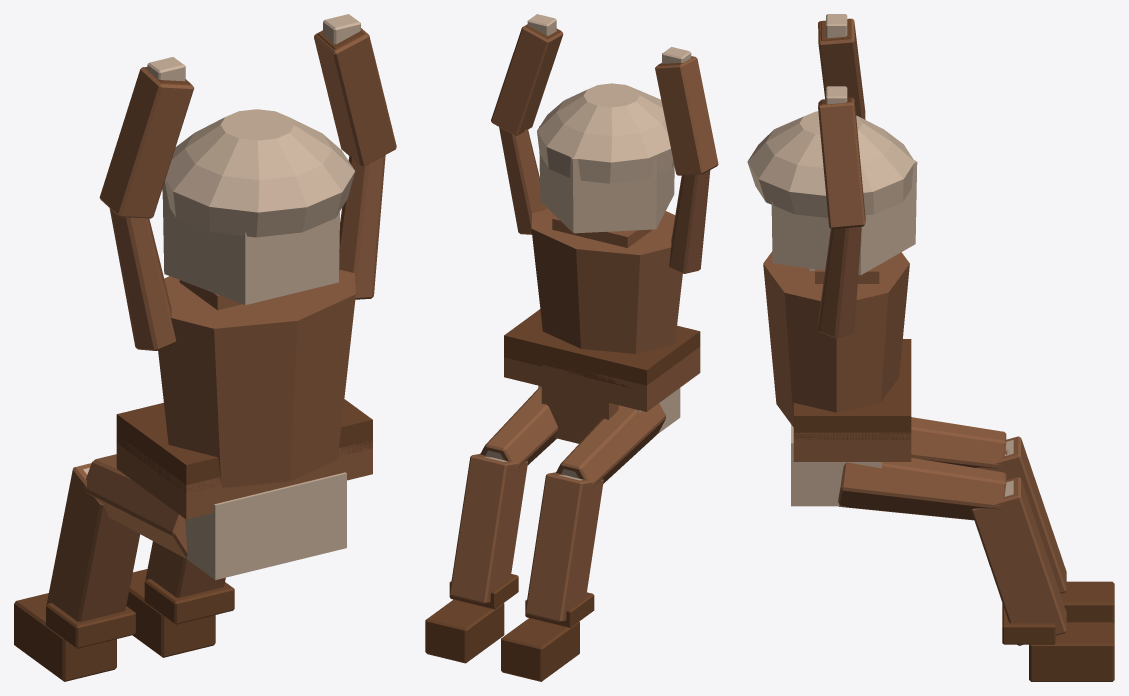
Rendered from cheer.glb.
The picture shows the model from 3 angles, left to right: view 1: azimuth 30°, elevation 25°; view 2: azimuth 150°, elevation 25°; view 3: azimuth 270°, elevation 25°; orthographic projection. The views are drawn at different scales.
Parts seen in each view (by area): view 1: fabric, skin, leather; view 2: fabric, skin, leather; view 3: fabric, skin, leather.
Boxes of the visible parts, x1=… form: fabric: x1=46, y1=28, x2=396, y2=621; skin: x1=83, y1=14, x2=360, y2=579; leather: x1=14, y1=30, x2=372, y2=681; fabric: x1=449, y1=24, x2=718, y2=622; skin: x1=484, y1=14, x2=691, y2=480; leather: x1=425, y1=25, x2=700, y2=681; fabric: x1=763, y1=18, x2=1066, y2=645; skin: x1=747, y1=14, x2=1013, y2=506; leather: x1=793, y1=19, x2=1114, y2=681.
Bounding box in the file's own units: 0.5084 × 1.23 × 0.6868.
